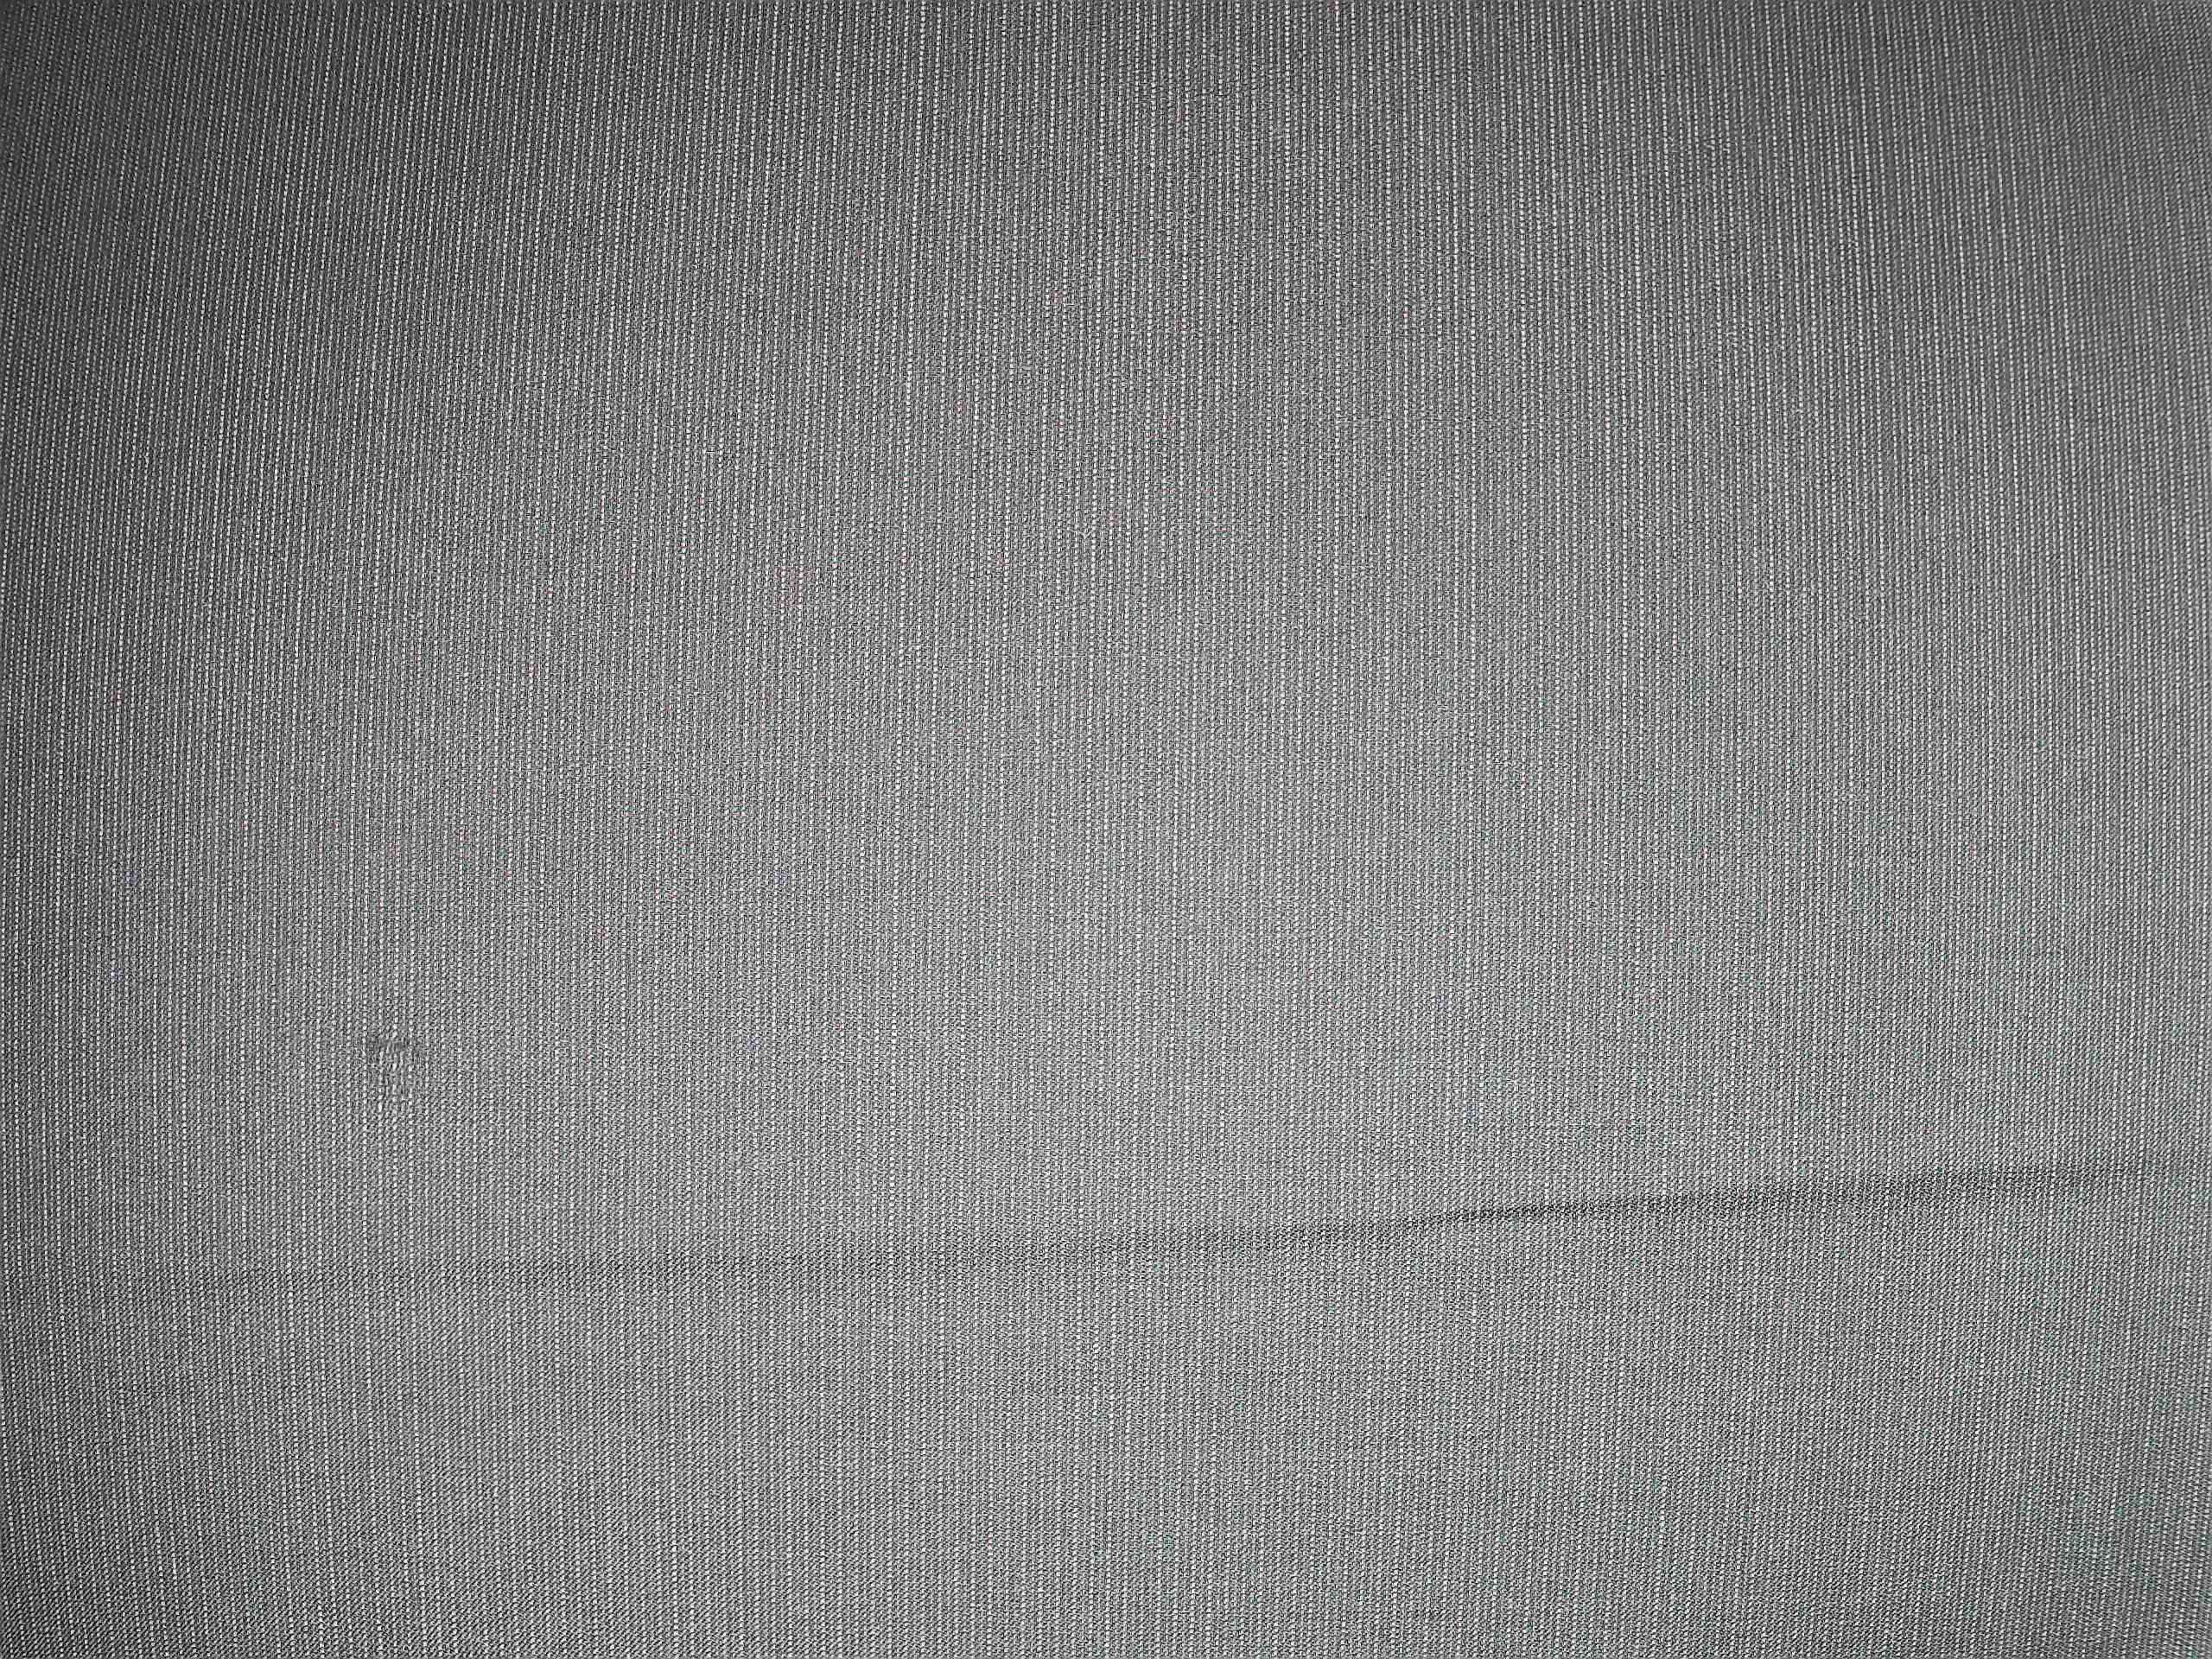knots: (341, 1016, 446, 1122)
